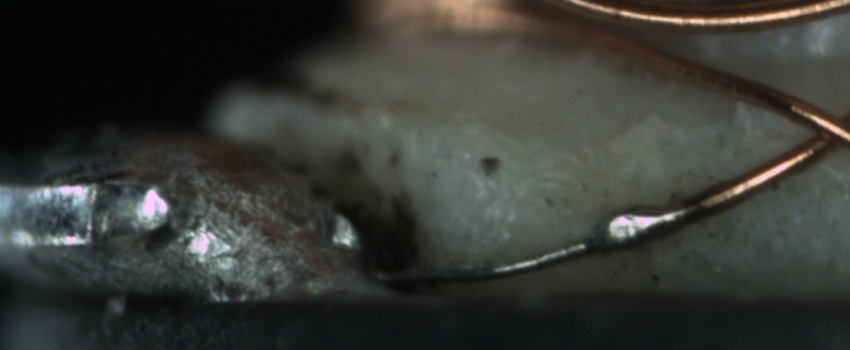CL: (776, 92, 850, 165)
TB: (589, 201, 674, 258)
TS: (376, 203, 697, 284)
TTCW: (381, 178, 748, 287)
